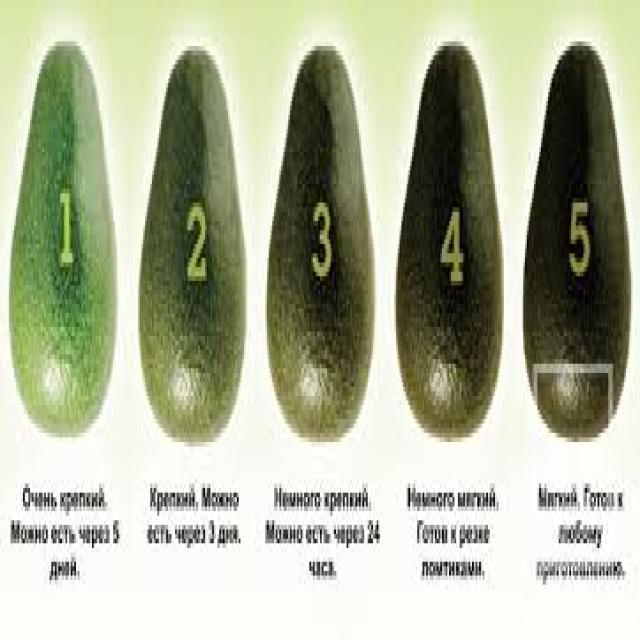avocado: (524, 9, 640, 486), (9, 9, 128, 470), (264, 24, 378, 502), (140, 29, 255, 496), (399, 18, 508, 454)
